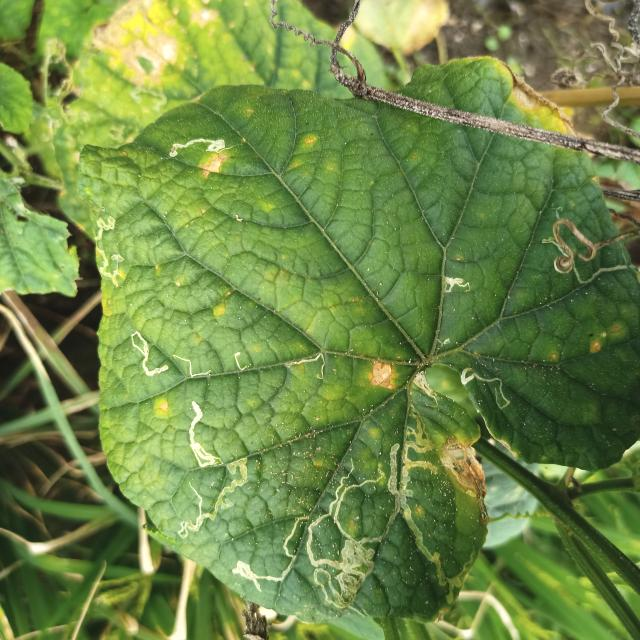disease_cucumber: (592, 319, 624, 358), (367, 359, 396, 392), (199, 155, 224, 178), (154, 396, 173, 414)
